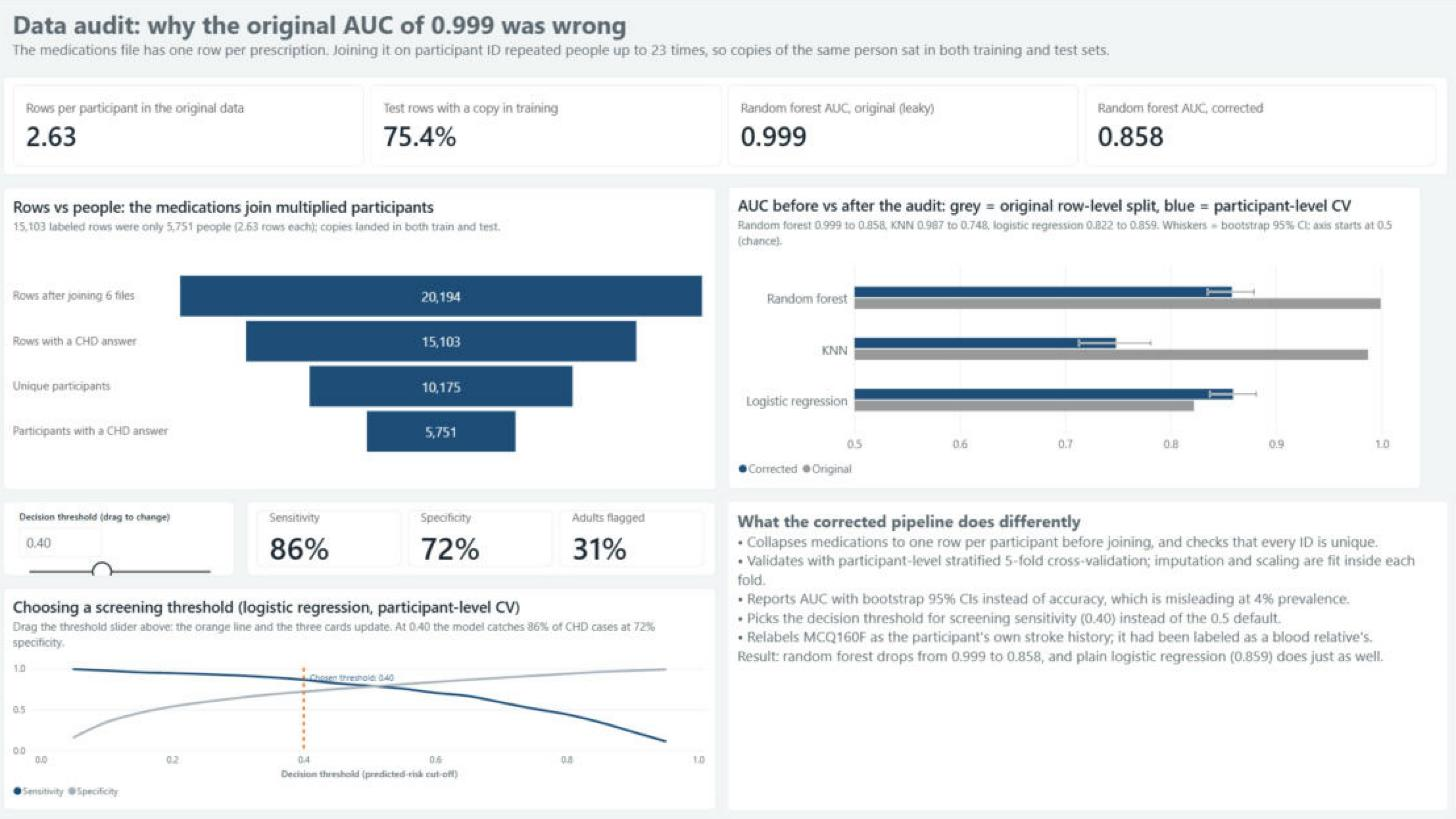

Layout of this report page (visuals, bound fields, positions):
{"tool":"powerbi","page":{"name":"2. Data audit","canvas":[1920,1080],"ordinal":1},"visuals":[{"type":"cardVisual","fields":{"Data":["funnel.Rows per Participant","model_auc.Leaked Test Rows","model_auc.RF AUC Original","model_auc.RF AUC Corrected"]},"box":[24,104,1872,128],"z":0},{"type":"funnel","title":"Rows vs people: the medications join multiplied participants","fields":{"Category":["funnel.Step Label"],"Y":["Sum(funnel.Count)"]},"box":[24,248,924,392],"z":1000},{"type":"clusteredBarChart","title":"AUC before vs after the audit: grey = original row-level split, blue = participant-level CV","fields":{"Category":["model_auc.Model"],"Series":["model_auc.Setup"],"Y":["Sum(model_auc.AUC)"]},"box":[963.7,247.3,897.7,392.1],"z":2000},{"type":"cardVisual","fields":{"Data":["threshold.Sensitivity at Threshold","threshold.Specificity at Threshold","threshold.Share Flagged"]},"box":[340,656,608,120],"z":4000},{"type":"lineChart","title":"Choosing a screening threshold (logistic regression, participant-level CV)","fields":{"Category":["threshold.Threshold"],"Y":["Sum(threshold.Sensitivity)","Sum(threshold.Specificity)"]},"box":[24,784,924,272],"z":5000},{"type":"textbox","box":[24,4,1872,98],"z":6000},{"type":"textbox","box":[964,656,932,400],"z":7000},{"type":"slicer","fields":{"Values":["Threshold choice.Threshold choice"]},"box":[0,680.5,300,120],"z":7001}]}

Visuals, with their boxes in screenshot pixels (x1, y1, x2, y2), scaled from the page's 1920x1080 canvas onto the 1456x819 screenshot:
cardVisual - funnel.Rows per Participant x model_auc.Leaked Test Rows: 18 79 1438 176
"Rows vs people: the medications join multiplied participants" funnel: 18 188 719 485
"AUC before vs after the audit: grey = original row-level split, blue = participant-level CV" clusteredBarChart: 731 188 1412 485
cardVisual - threshold.Sensitivity at Threshold x threshold.Specificity at Threshold: 258 497 719 588
"Choosing a screening threshold (logistic regression, participant-level CV)" lineChart: 18 595 719 801
textbox: 18 3 1438 77
textbox: 731 497 1438 801
slicer - Threshold choice.Threshold choice: 0 516 228 607
